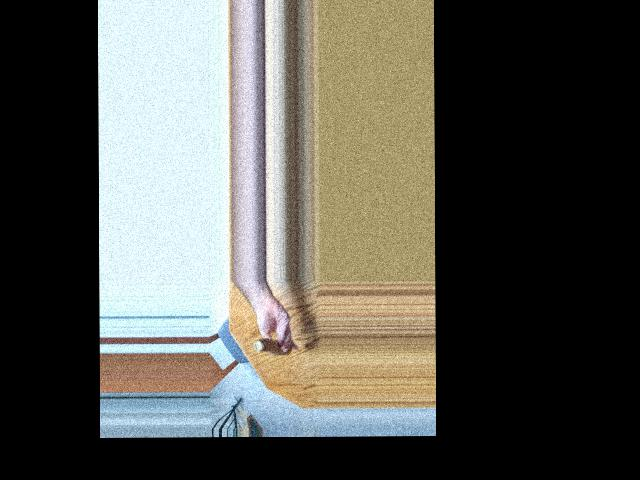sweet_potato: (258, 343, 292, 356)
